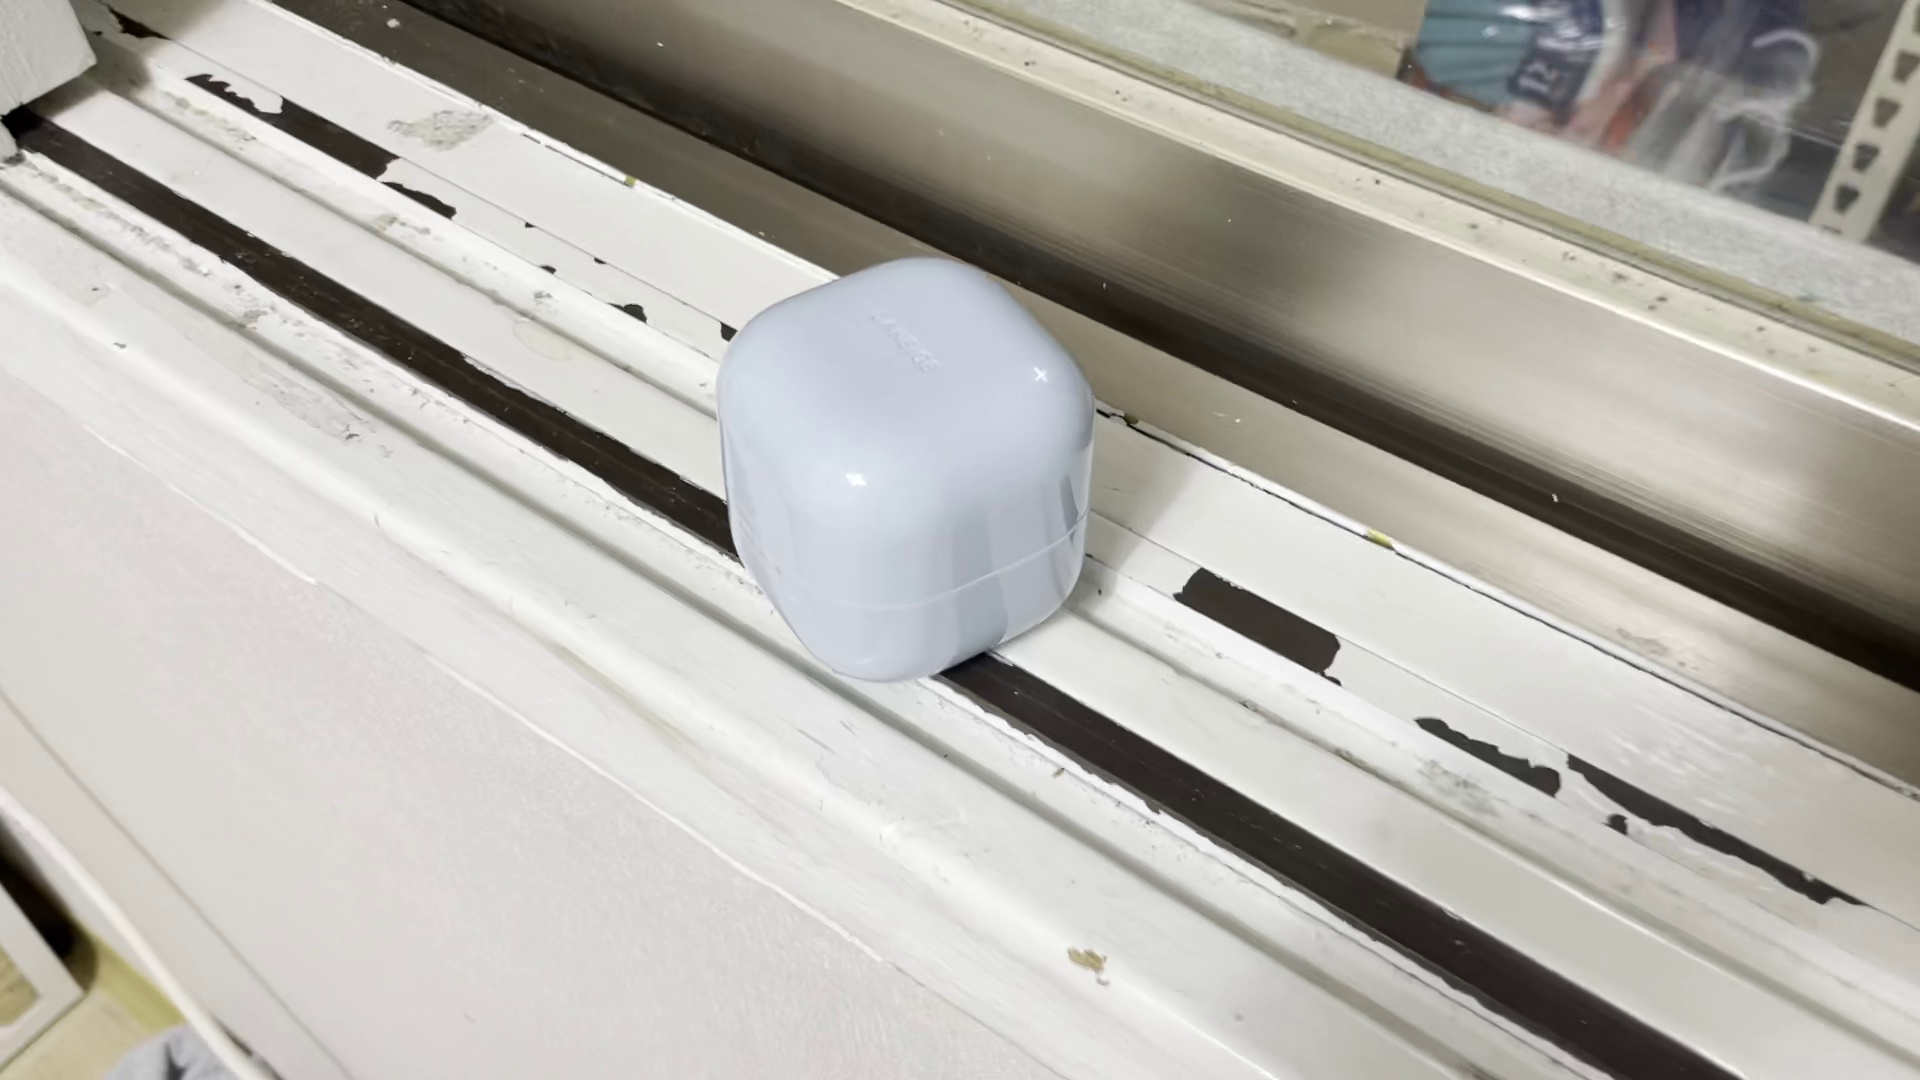cream: (717, 256, 1093, 680)
